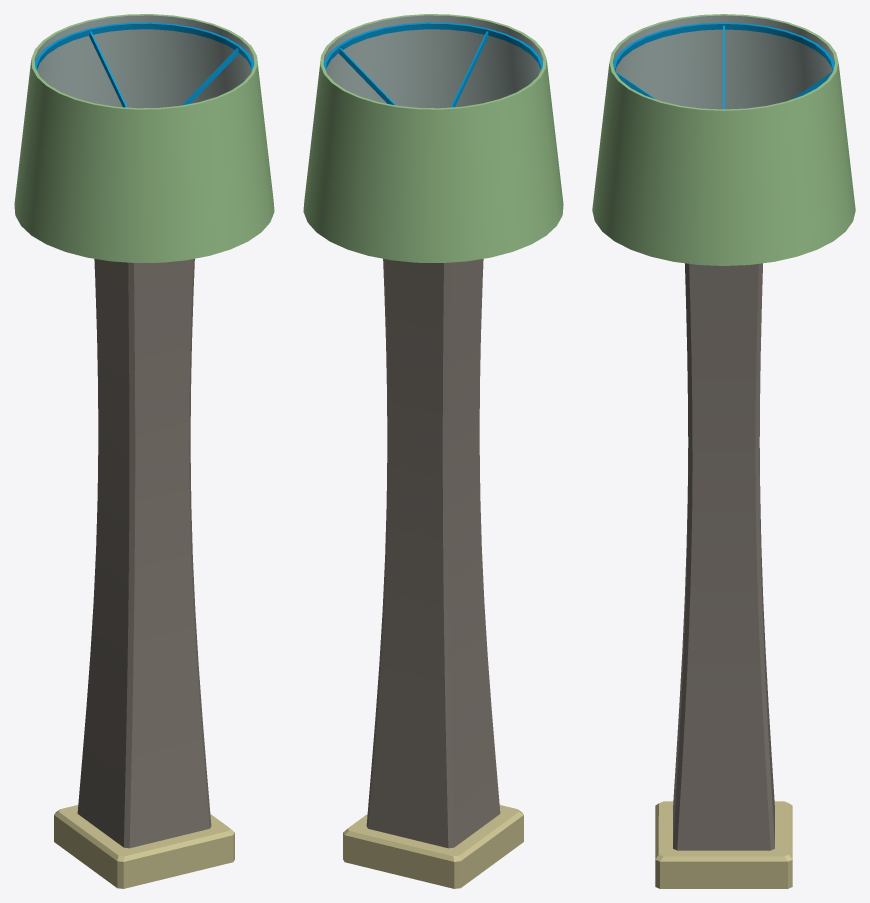
File: lampCylFloor.fbx
3 views of the same model, side by side, from view 1: azimuth 30°, elevation 25°; view 2: azimuth 150°, elevation 25°; view 3: azimuth 270°, elevation 25° (orthographic).
Visible parts, largest first — view 1: lampCylFloor; view 2: lampCylFloor; view 3: lampCylFloor.
Part boxes in pixels (x1,y1,x2,y2): lampCylFloor: (14, 14, 274, 888); lampCylFloor: (303, 14, 563, 888); lampCylFloor: (592, 14, 855, 888).
Bounding box in the file's own units: 51.5 × 172 × 51.5.
